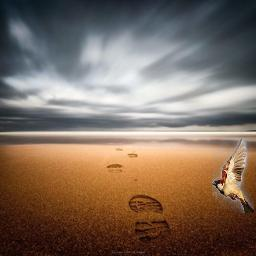Sparrow: (212, 139, 254, 214)
